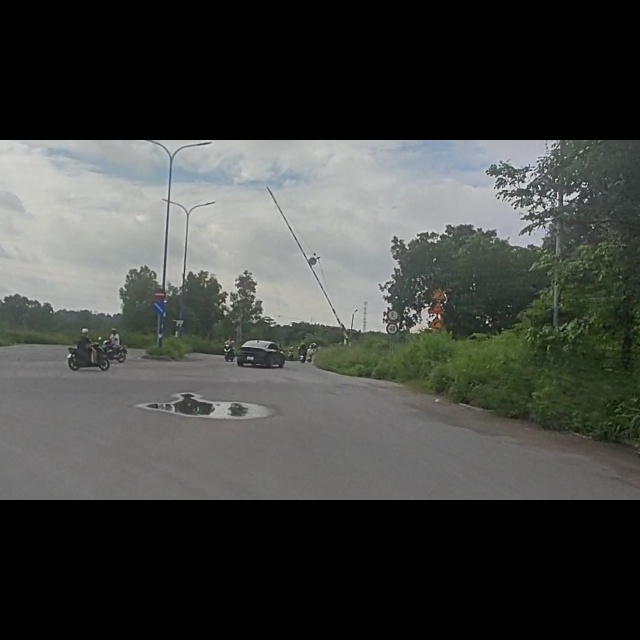bien_chi_dan: (428, 312, 445, 338), (151, 287, 167, 311), (153, 262, 167, 286), (387, 324, 401, 346)
